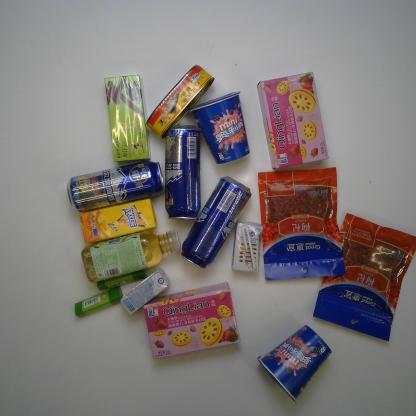Alcohol: (179, 173, 252, 270), (65, 159, 166, 213), (161, 120, 202, 219)
Canned Food: (144, 64, 216, 141)
Dessert: (142, 279, 242, 359), (255, 68, 332, 169), (256, 324, 333, 404), (190, 90, 250, 164)
Dried Fruit: (310, 213, 416, 342), (256, 167, 348, 280)
Drink: (80, 228, 182, 283), (78, 196, 158, 244)
Instant Drink: (101, 71, 153, 163)
Milk: (119, 267, 169, 316), (231, 218, 264, 272)
Stationery: (74, 285, 124, 318), (96, 268, 148, 290)
